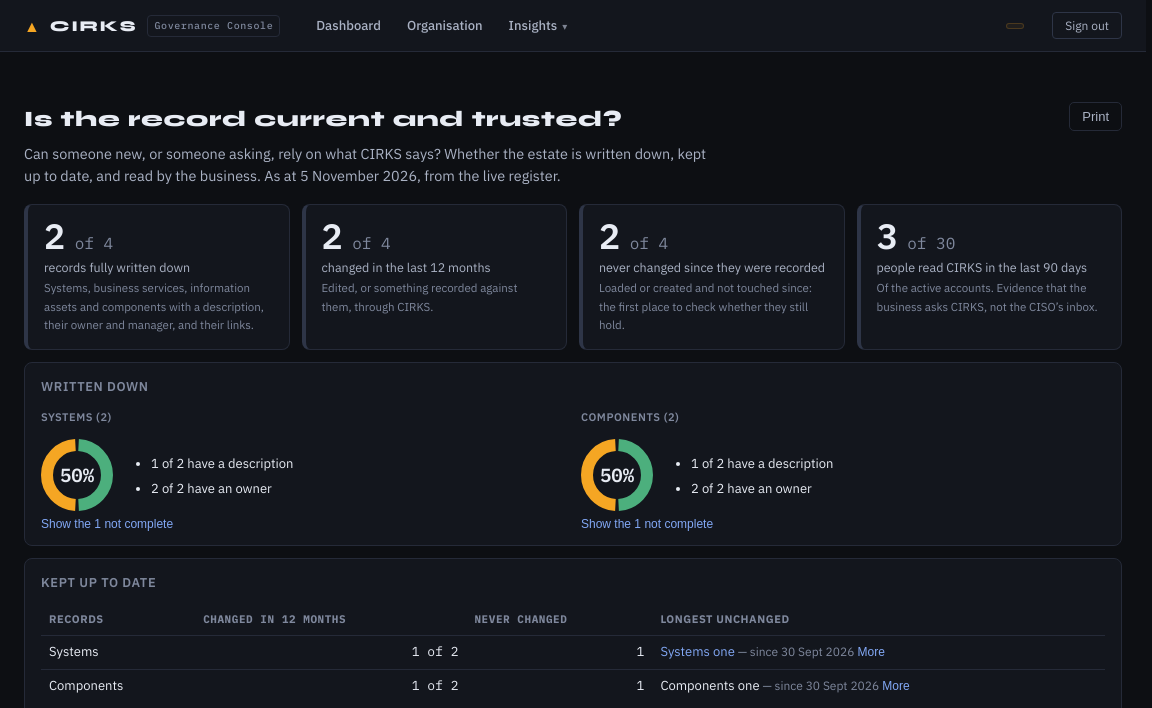
Scenario: Is the record current and trusted? › says what is written down and lists what is not
Expected: the text "records fully written down" is shown, x1=44 y1=259 x2=190 y2=275
Expected: the number of list items "1 of 2 have a description" is 2, x1=151 y1=454 x2=294 y2=475; x1=691 y1=454 x2=834 y2=475
Click the 1st button "Show the 1 not complete" at (107, 524), box x1=41 y1=517 x2=173 y2=531
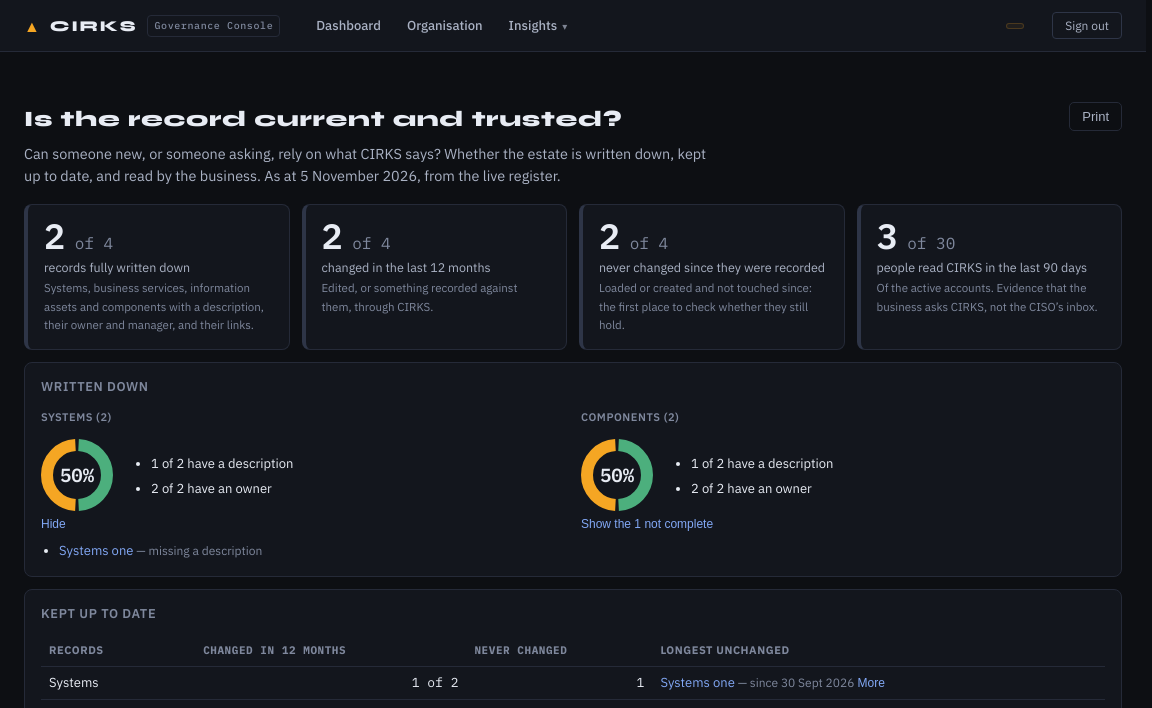
Expected: the text "— missing a description" is shown, x1=133 y1=543 x2=262 y2=558
